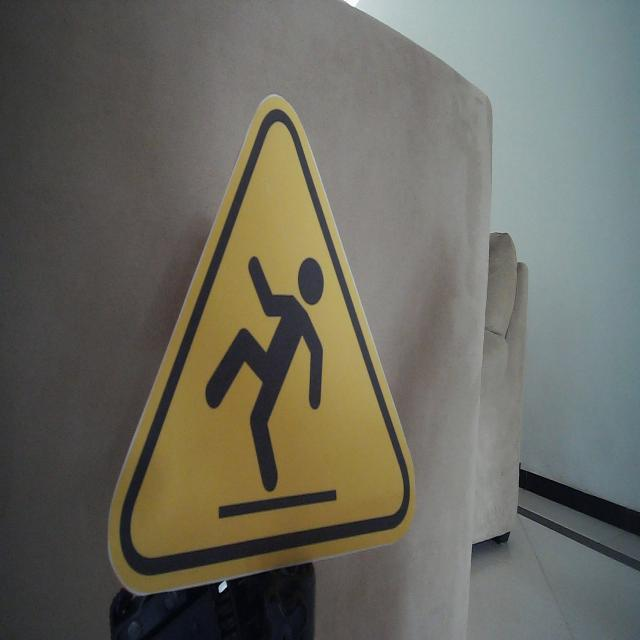slippery_sign: (105, 92, 418, 598)
